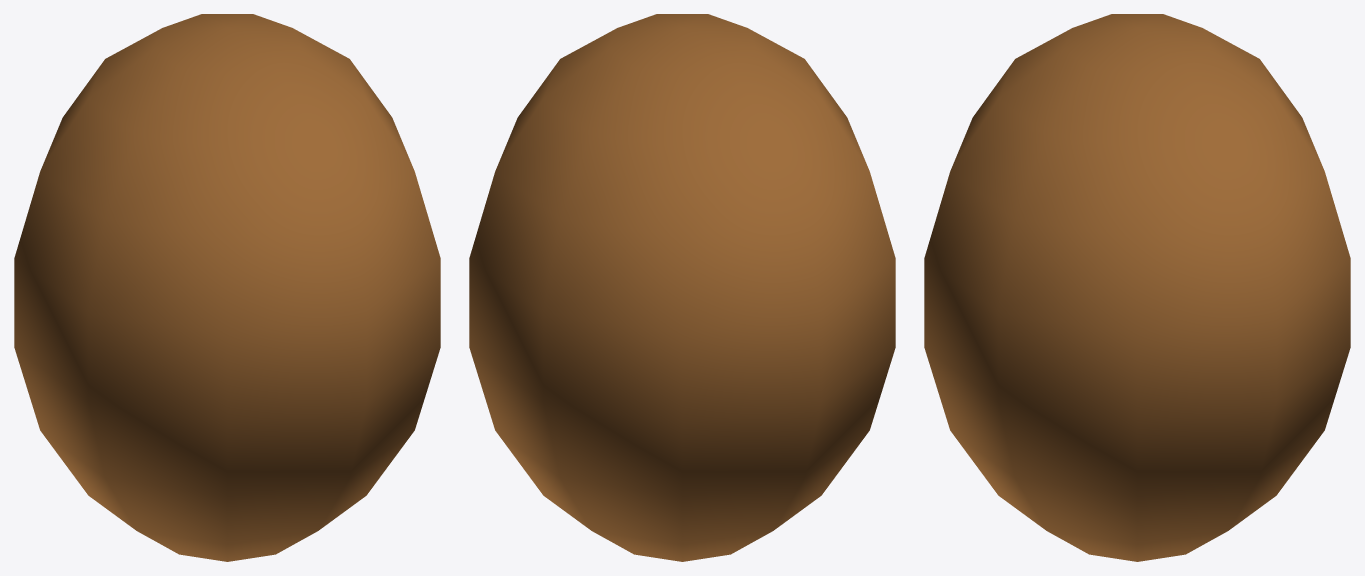
File: sandpup_stage1.obj
3 views of the same model, side by side, from view 1: azimuth 30°, elevation 25°; view 2: azimuth 150°, elevation 25°; view 3: azimuth 270°, elevation 25° (orthographic).
Size of the model in its own units: 1.24 by 1.69 by 1.26.
